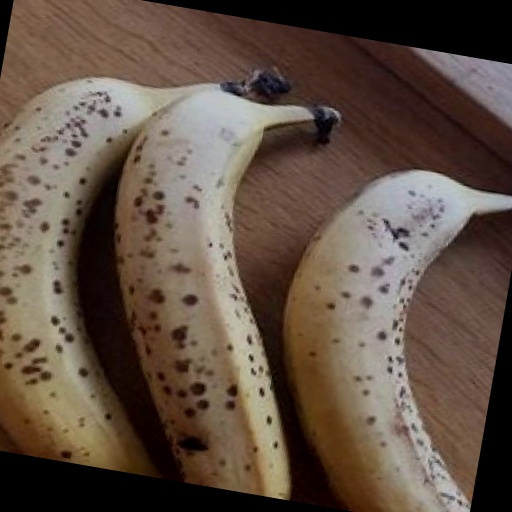fruit: (115, 91, 338, 498), (0, 78, 219, 475), (285, 170, 512, 512)
